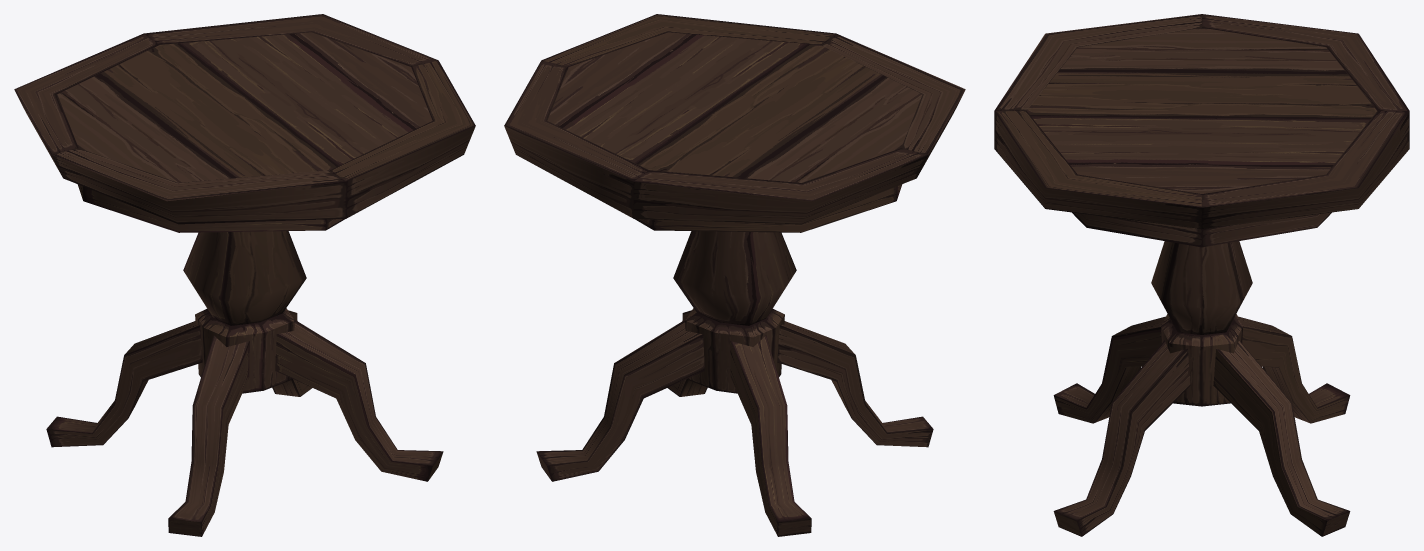
The model's file is SM_PROP_table_battle_02.fbx.
The picture shows the model from 3 angles, left to right: view 1: azimuth 30°, elevation 25°; view 2: azimuth 150°, elevation 25°; view 3: azimuth 270°, elevation 25°; orthographic projection. The views are drawn at different scales.
Parts seen in each view (by area): view 1: SM_PROP_table_battle_02; view 2: SM_PROP_table_battle_02; view 3: SM_PROP_table_battle_02.
Part boxes in pixels (<box>): SM_PROP_table_battle_02: <box>14,14,475,536</box>; SM_PROP_table_battle_02: <box>504,14,965,536</box>; SM_PROP_table_battle_02: <box>994,14,1409,536</box>.
Bounding box in the file's own units: 92.06 × 79.65 × 83.4.
